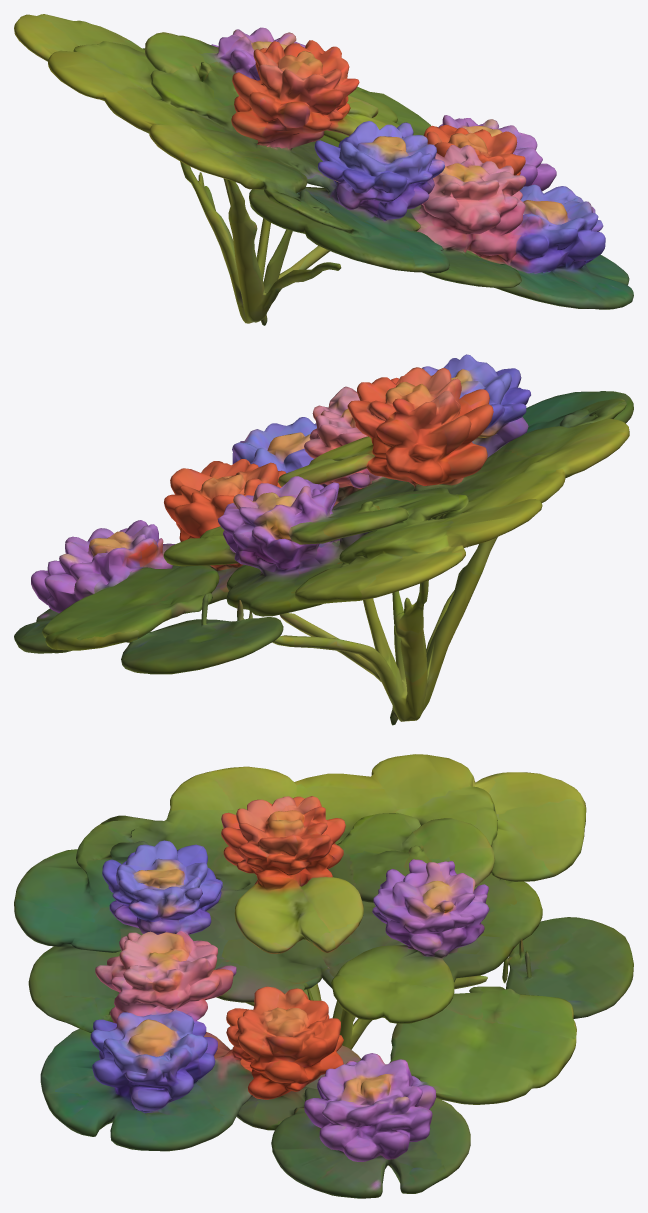
The model's file is water_lily_patch.glb.
3 views of the same model, one above another, from view 1: azimuth 30°, elevation 25°; view 2: azimuth 150°, elevation 25°; view 3: azimuth 270°, elevation 25° (orthographic). The views are drawn at different scales.
Parts seen in each view (by area): view 1: tripo_node_c70ed790-348f-4bd4-a2b3-544392da9fb4; view 2: tripo_node_c70ed790-348f-4bd4-a2b3-544392da9fb4; view 3: tripo_node_c70ed790-348f-4bd4-a2b3-544392da9fb4.
Part boxes in pixels (x1,y1,x2,y2): tripo_node_c70ed790-348f-4bd4-a2b3-544392da9fb4: (14,14,633,325); tripo_node_c70ed790-348f-4bd4-a2b3-544392da9fb4: (14,354,633,725); tripo_node_c70ed790-348f-4bd4-a2b3-544392da9fb4: (14,754,633,1198).
Size of the model in its own units: 0.8013 by 0.4729 by 0.9471.
1 material, 1 textured.
